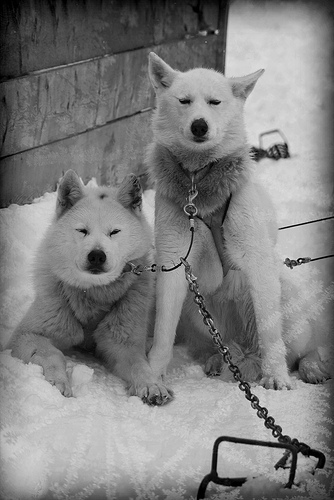dog: (152, 45, 321, 390), (5, 168, 177, 407)
